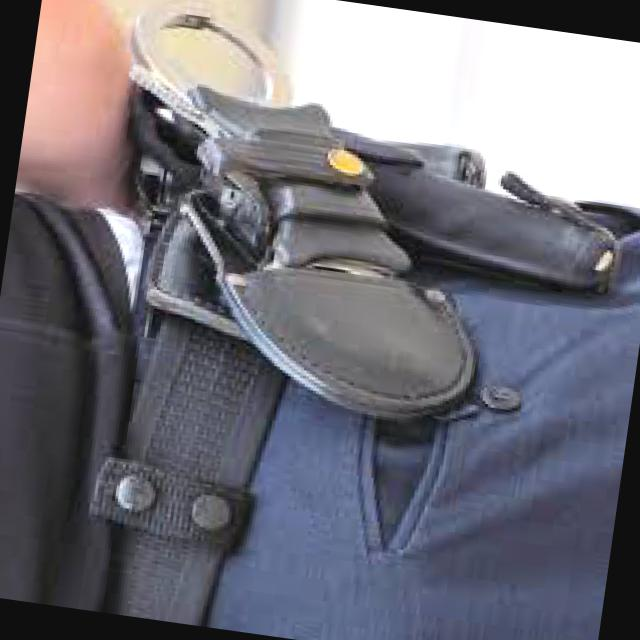handgun: (111, 92, 639, 406)
